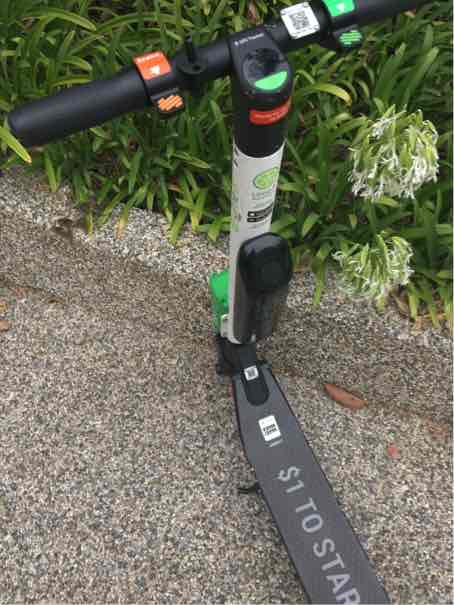scooter: (6, 12, 442, 605)
